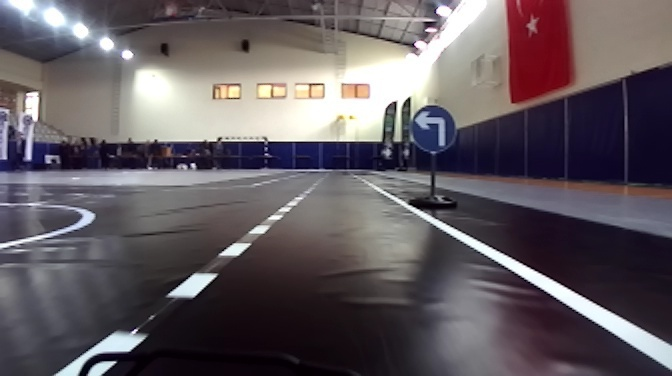sola_donus: (410, 105, 457, 149)
